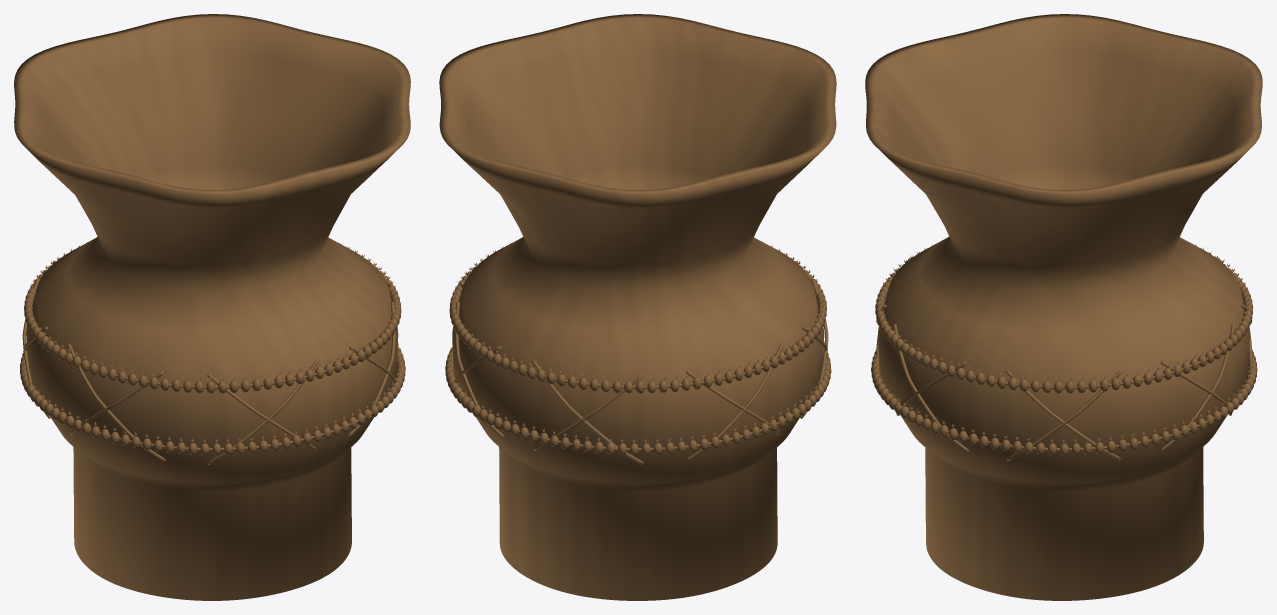
The model's file is pillar-capital.glb.
The picture shows the model from 3 angles, left to right: view 1: azimuth 30°, elevation 25°; view 2: azimuth 150°, elevation 25°; view 3: azimuth 270°, elevation 25°; orthographic projection.
Parts seen in each view (by area): view 1: pillar-capital-solomon-cast-bronze; view 2: pillar-capital-solomon-cast-bronze; view 3: pillar-capital-solomon-cast-bronze.
Boxes of the visible parts, x1=… form: pillar-capital-solomon-cast-bronze: x1=14, y1=14, x2=410, y2=600; pillar-capital-solomon-cast-bronze: x1=439, y1=14, x2=836, y2=600; pillar-capital-solomon-cast-bronze: x1=865, y1=14, x2=1262, y2=600.
Bounding box in the file's own units: 0.708 × 0.8 × 0.6581.
